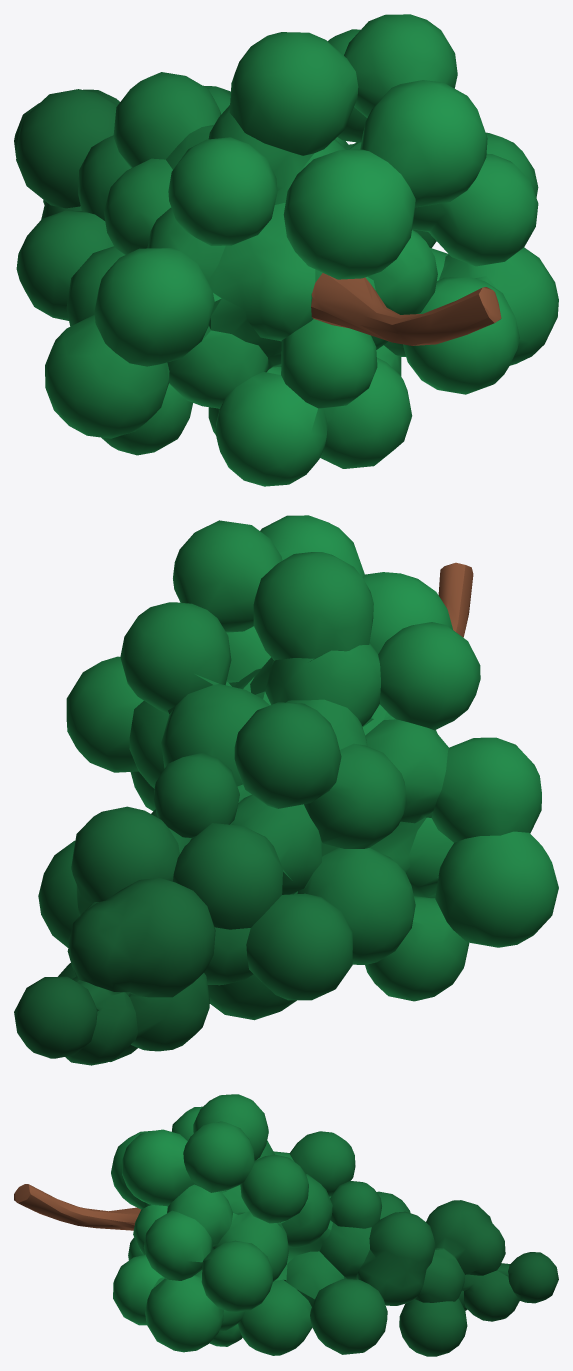
The model's file is Grape.fbx.
3 renders of one model, top to bottom at view 1: azimuth 30°, elevation 25°; view 2: azimuth 150°, elevation 25°; view 3: azimuth 270°, elevation 25°, orthographic. The views are drawn at different scales.
Parts seen in each view (by area): view 1: Grape; view 2: Grape; view 3: Grape.
Boxes of the visible parts, left/top/right/bottom form: Grape: left=14, top=14, right=558, bottom=486; Grape: left=14, top=515, right=558, bottom=1065; Grape: left=14, top=1094, right=558, bottom=1356.
Size of the model in its own units: 0.3716 by 0.2966 by 0.6016.
